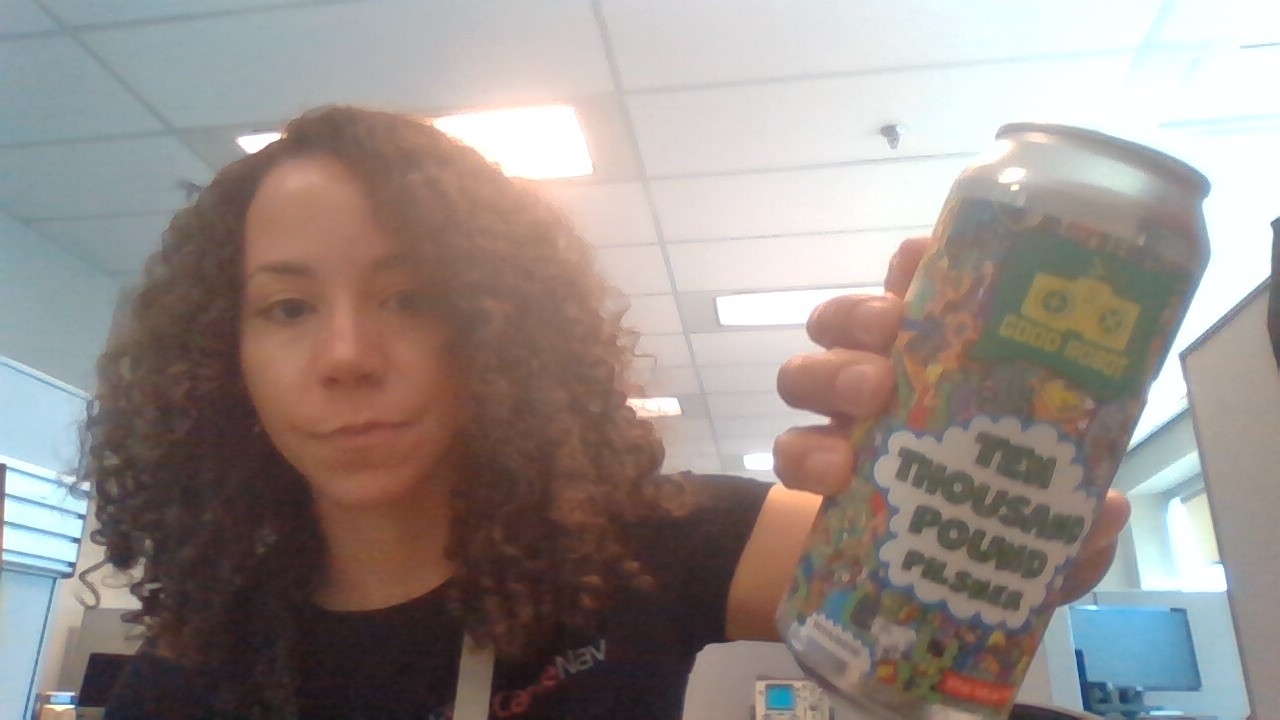Good Robot: (1015, 255, 1152, 355)
